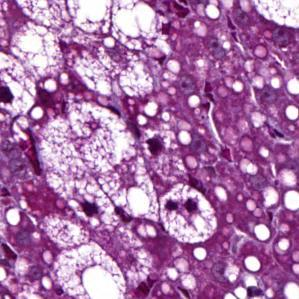ballooning: (30, 102, 161, 229), (48, 240, 130, 297), (157, 183, 222, 249), (9, 21, 66, 83)
